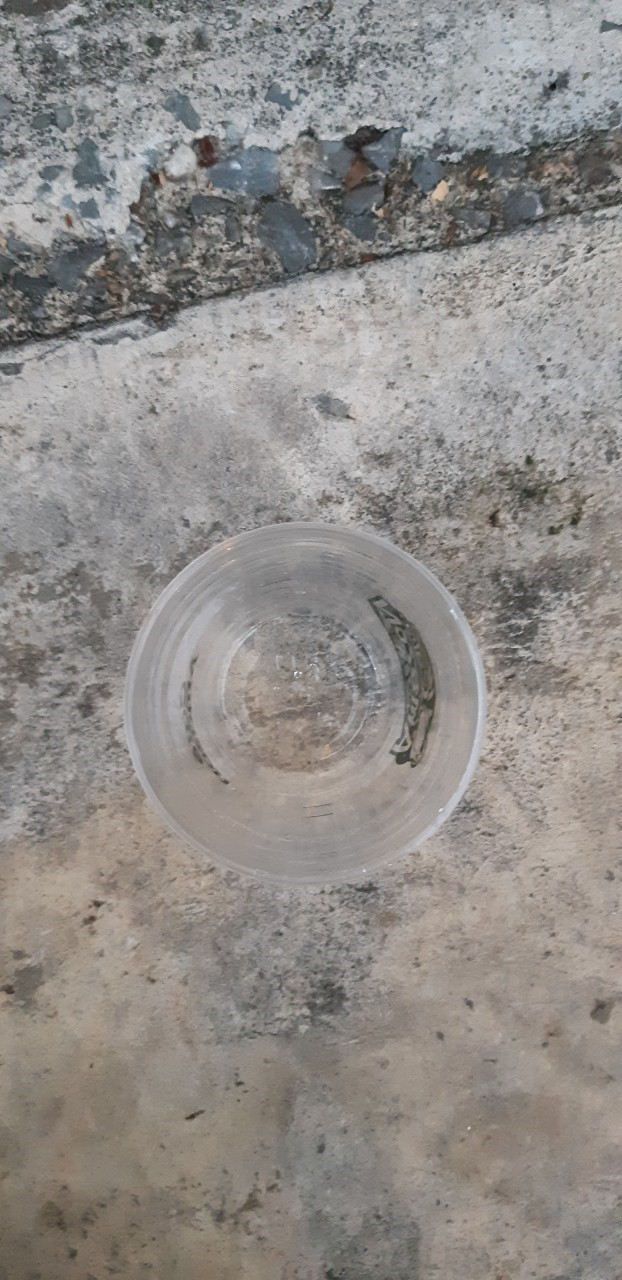PlasticCup: (128, 519, 492, 876)
